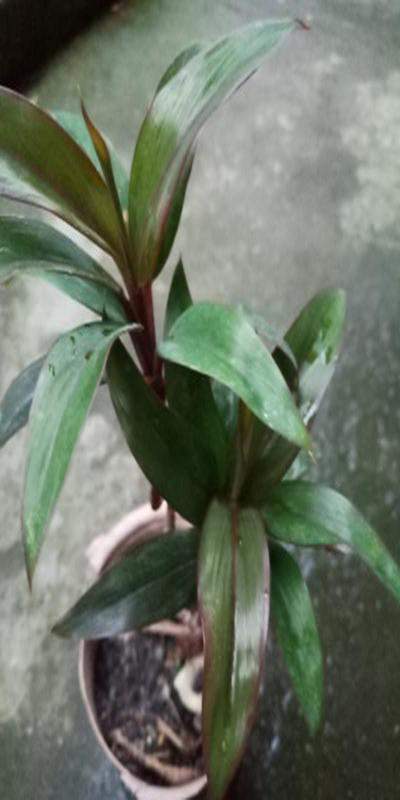Baston de san jose: (21, 83, 350, 764)
